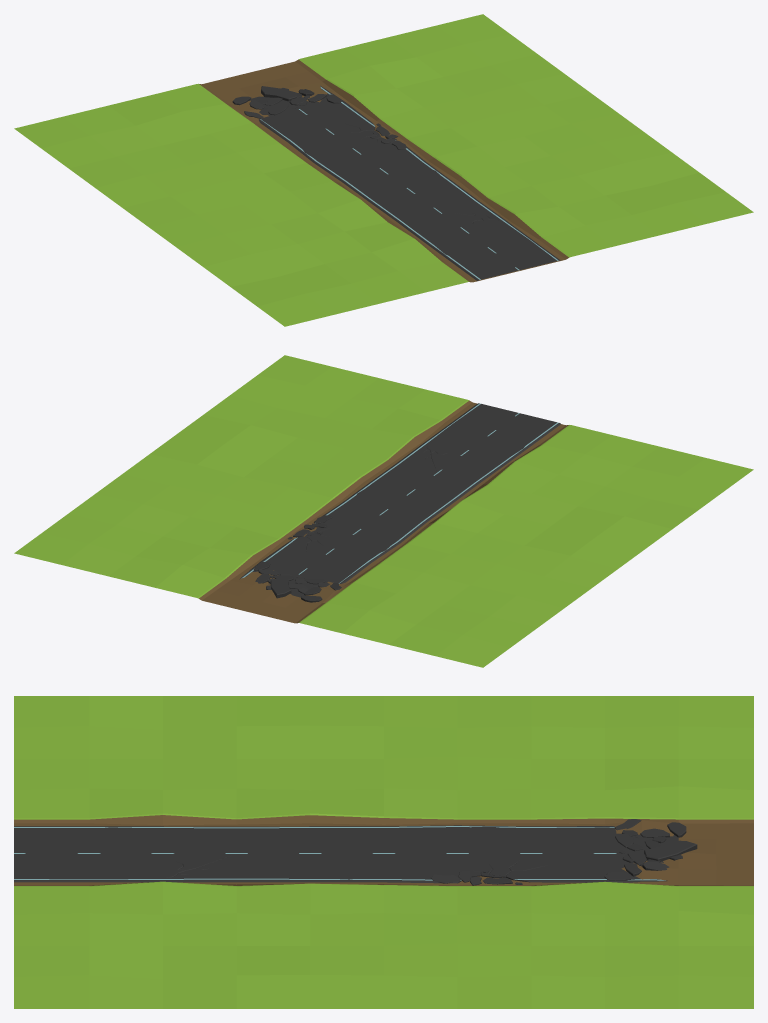
The model's file is model_road_grass_straight_03.fbx.
The picture shows the model from 3 angles, top to bottom: view 1: azimuth 30°, elevation 25°; view 2: azimuth 150°, elevation 25°; view 3: azimuth 270°, elevation 25°; orthographic projection. The views are drawn at different scales.
Parts seen in each view (by area): view 1: model_road_grass_straight_03; view 2: model_road_grass_straight_03; view 3: model_road_grass_straight_03.
Boxes of the visible parts, bbox=[...] form: model_road_grass_straight_03: bbox=[14, 14, 753, 326]; model_road_grass_straight_03: bbox=[14, 355, 753, 667]; model_road_grass_straight_03: bbox=[14, 696, 753, 1008].
Bounding box in the file's own units: 6161 × 72.76 × 6161.
1 material, 1 textured.
